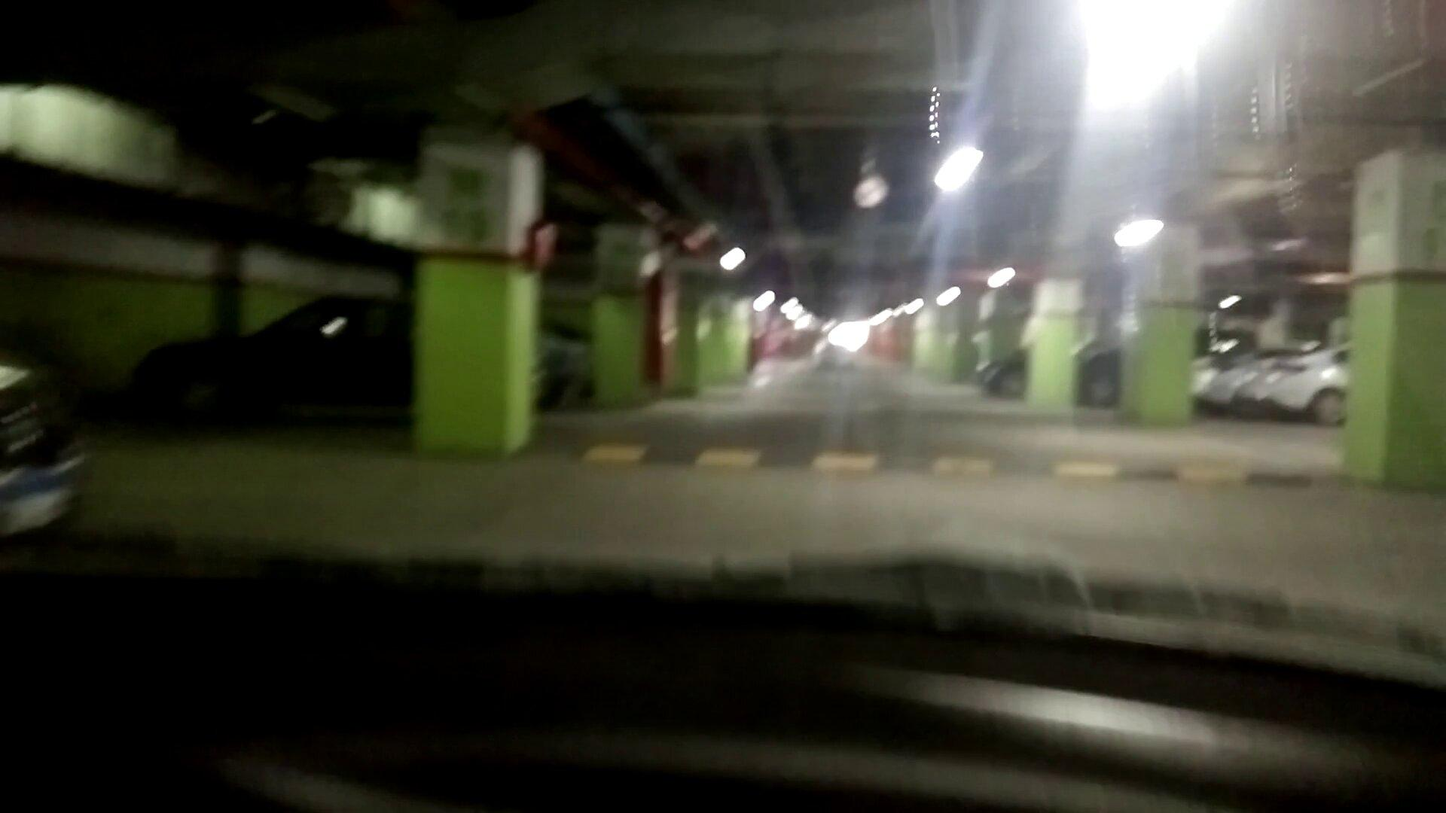Bump: (512, 431, 1366, 485)
